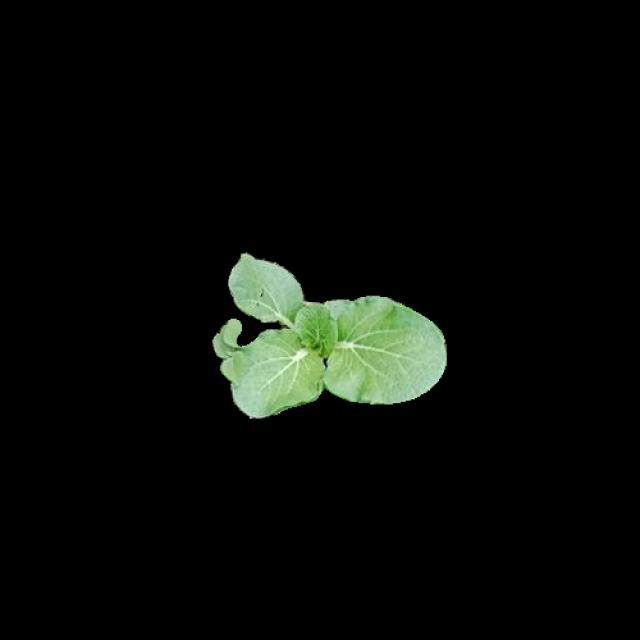healthy: (212, 248, 450, 415)
not-mature: (215, 251, 453, 417)
